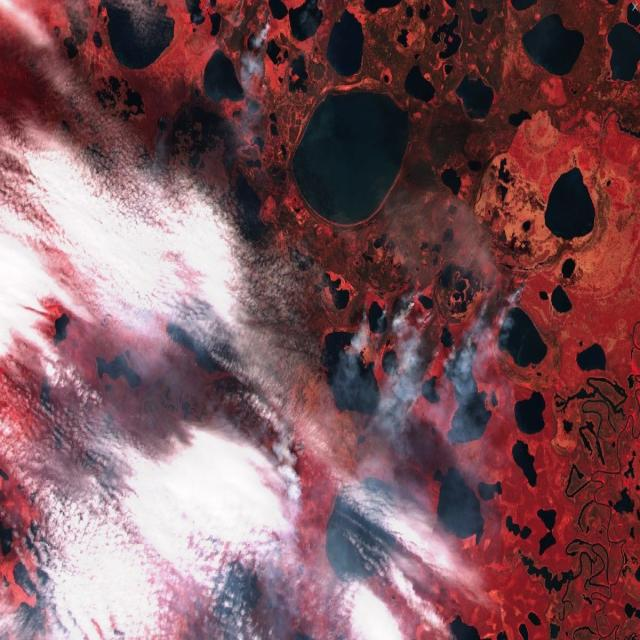fire: (345, 282, 530, 350), (250, 5, 279, 53)
